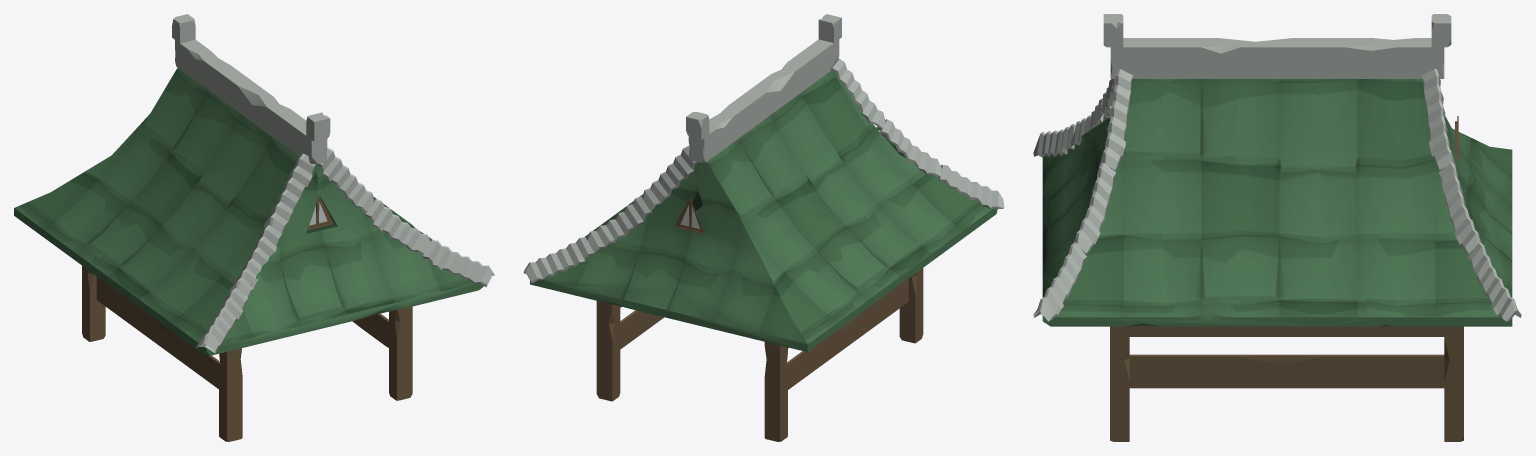
File: SM_Env_Roof_03.fbx
3 renders of one model, left to right at view 1: azimuth 30°, elevation 25°; view 2: azimuth 150°, elevation 25°; view 3: azimuth 270°, elevation 25°, orthographic. The views are drawn at different scales.
Parts seen in each view (by area): view 1: SM_Env_Roof_03; view 2: SM_Env_Roof_03; view 3: SM_Env_Roof_03.
Boxes of the visible parts, x1,y1,x2,y2 form: SM_Env_Roof_03: (14, 14, 494, 441); SM_Env_Roof_03: (523, 14, 1004, 441); SM_Env_Roof_03: (1033, 14, 1521, 441).
Size of the model in its own units: 90.49 by 87.04 by 105.
Materials: 1 (1 with a texture image).
